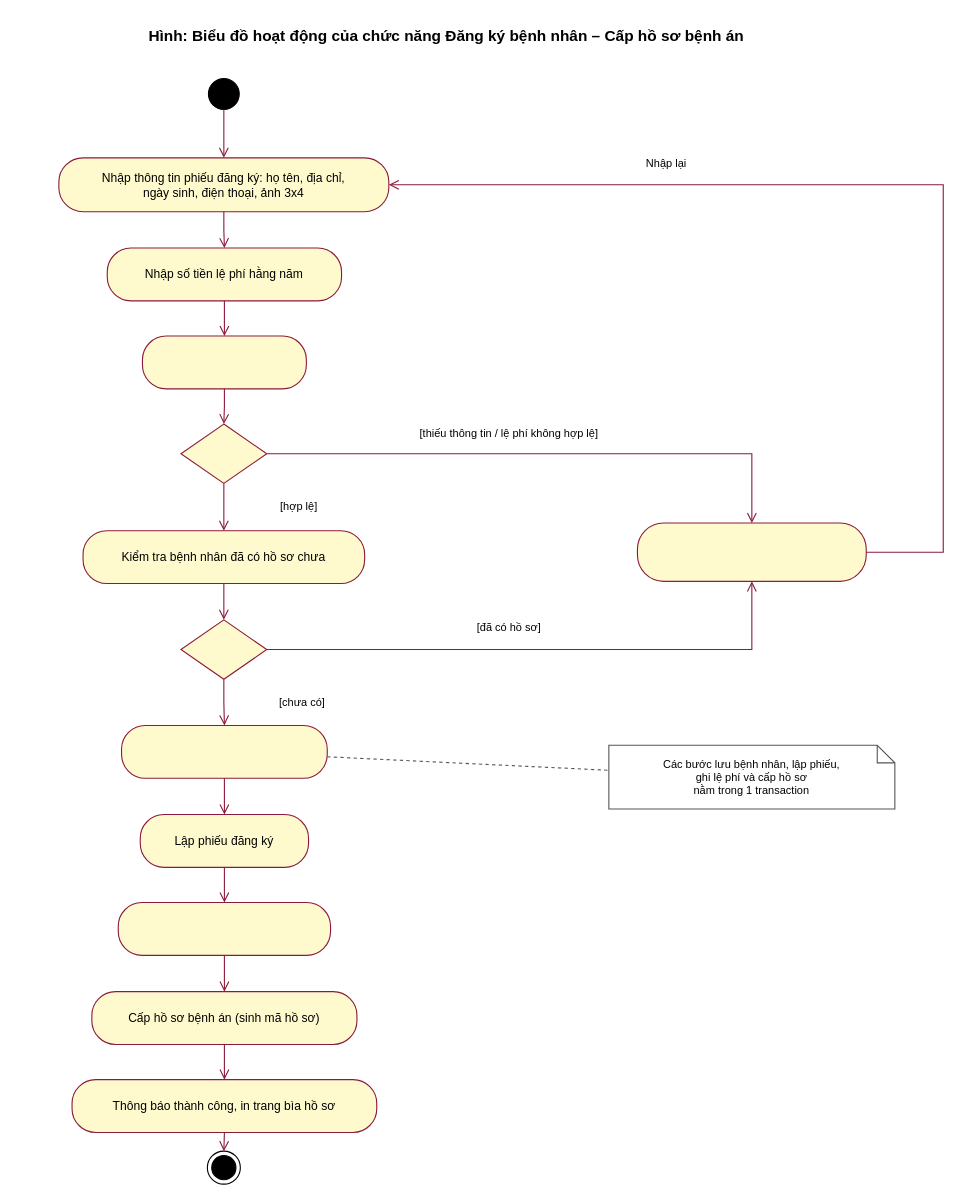
The diagram is 972 pixels wide and 1203 high, and some of its shapes have lost their labels. Here are the shapes that lost their labels. From the top down, the centre of each, then its label:
[223,362]: Nhấn "Lập phiếu"
[751,551]: Hủy giao dịch (rollback), thông báo nguyên nhân từ chối
[223,751]: Lưu thông tin bệnh nhân
[224,928]: Ghi nhận lệ phí hằng năm
